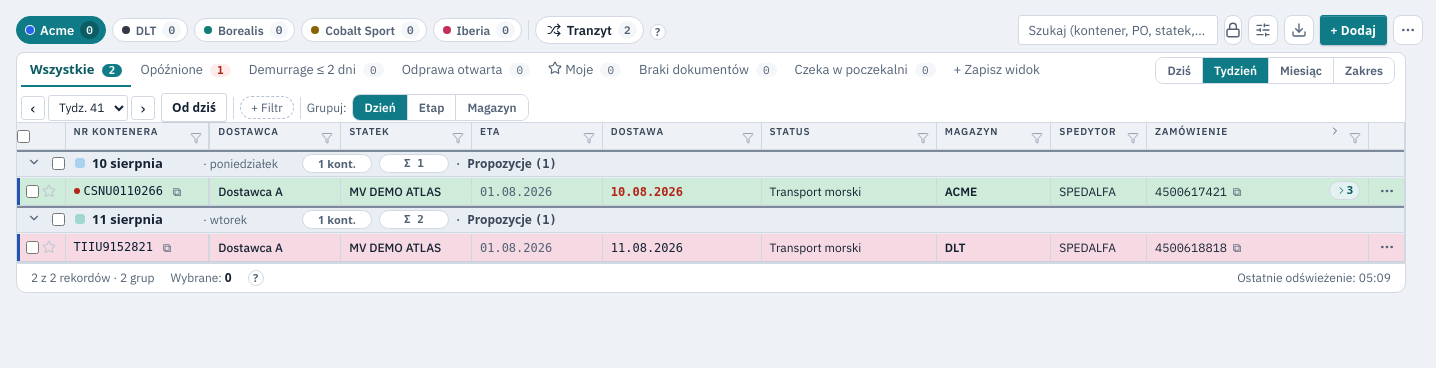
it: kolejka 4a — PO i SENT zwinięte gdy jest ich więcej niż jeden › pokazuje pierwszy numer i licznik wszystkich numerów, klik rozwija resztę
The width and height of the screenshot is (1436, 368).
Expected: the text "CSNU0110266" is shown, [84,184,163,198]
Expected: the text "4500617421" is shown, [1155,184,1227,198]
Click the button titled "Pokaż wszystkie numery".
click(1344, 190)  # box [1329,181,1360,200]
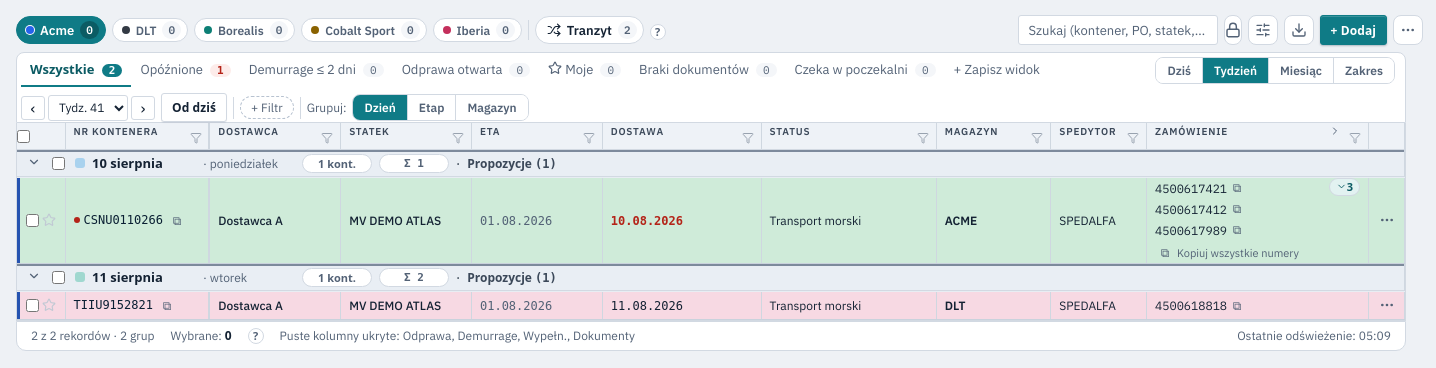
Expected: the text "4500617989" is shown, [1155,222,1227,237]
Click the button titled "Zwiń numery".
click(1344, 187)  # box [1329,178,1360,196]
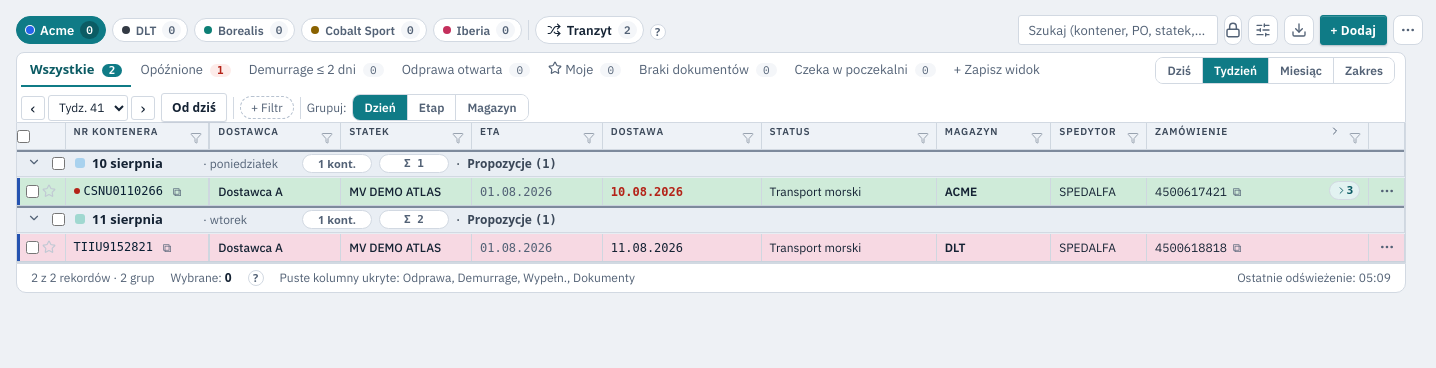
Expected: the text "4500617989" is gone
